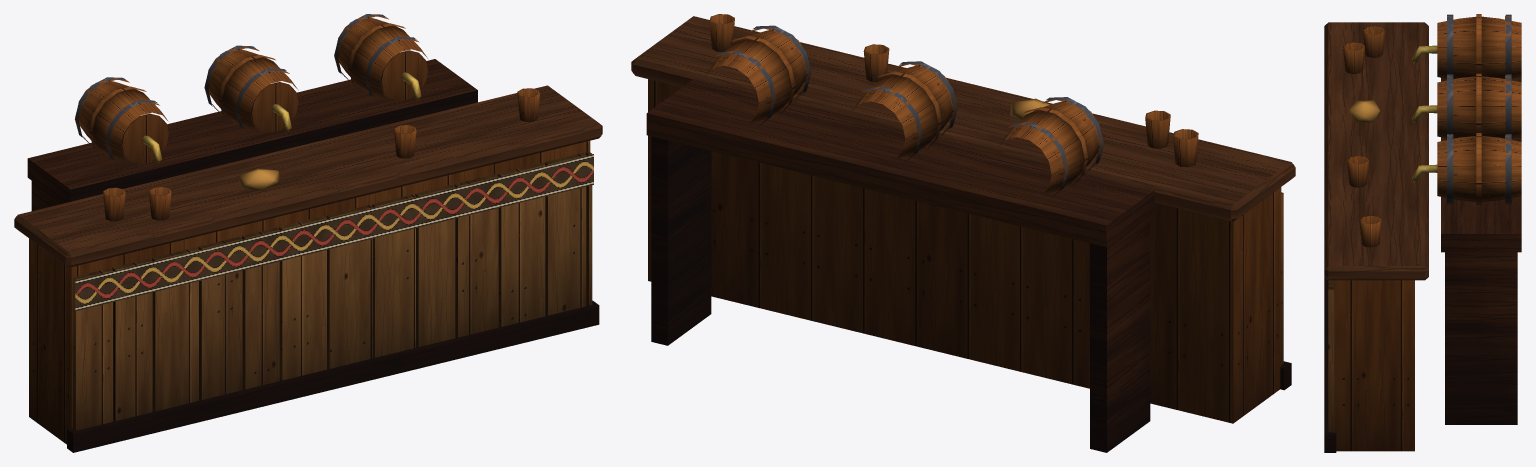
The model's file is interior_bar.glb.
3 views of the same model, side by side, from view 1: azimuth 30°, elevation 25°; view 2: azimuth 150°, elevation 25°; view 3: azimuth 270°, elevation 25° (orthographic). The views are drawn at different scales.
Visible parts, largest first — view 1: interior_bar; view 2: interior_bar; view 3: interior_bar.
Boxes of the visible parts, x1=… form: interior_bar: x1=14, y1=14, x2=602, y2=452; interior_bar: x1=631, y1=14, x2=1295, y2=452; interior_bar: x1=1324, y1=14, x2=1521, y2=452.
Size of the model in its own units: 2.9 by 1.4 by 0.98.
6 materials, 5 textured.
